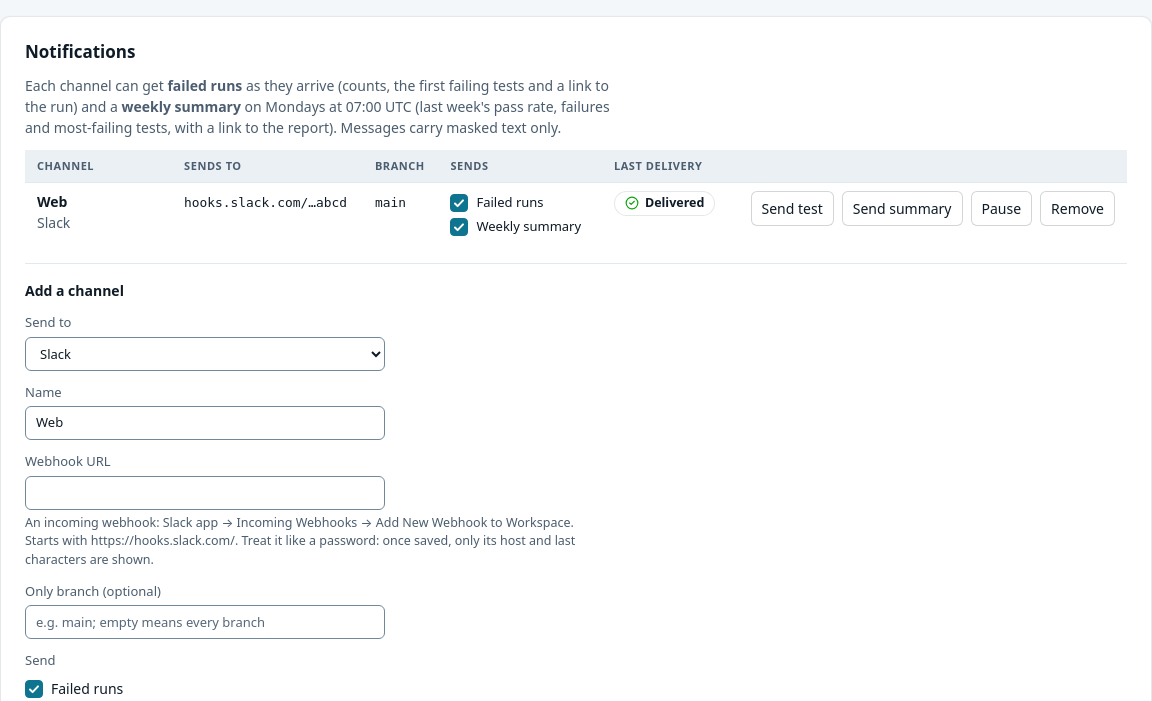
Scenario: send last week's summary on demand
Click the button with aria-label "send last week's summary to web" at (902, 209), box [842,191,962,226]
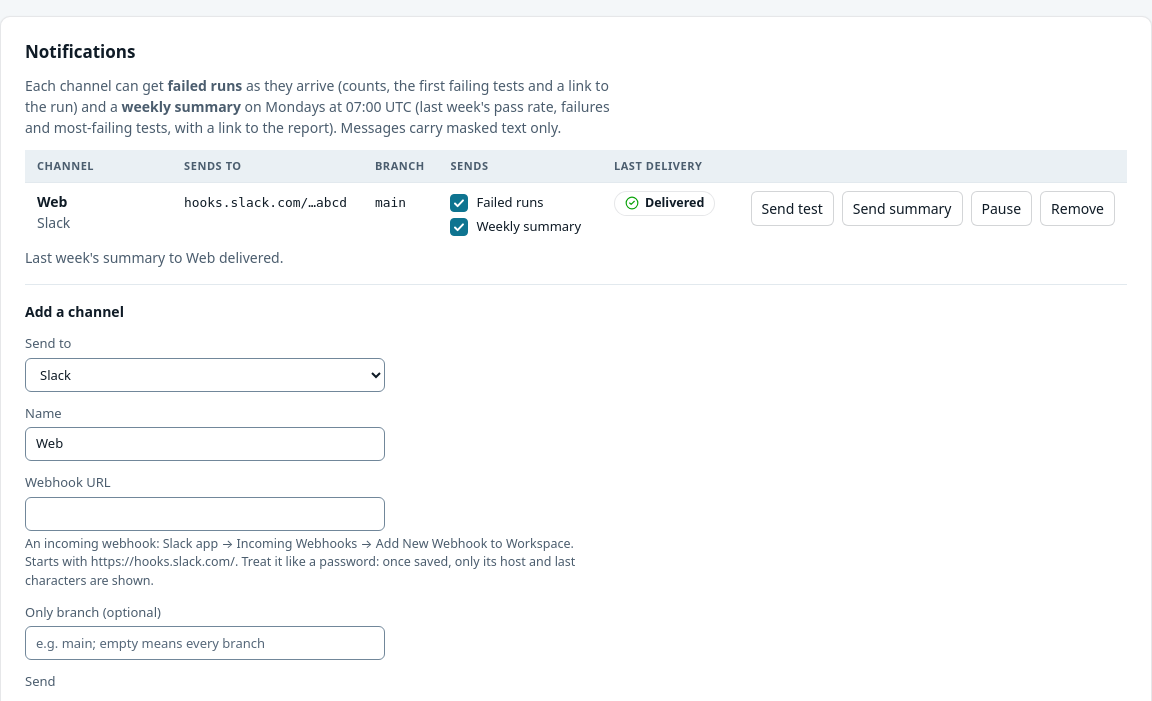
Expected: the text "Last week's summary to Web delivered." is shown, [25,248,284,267]
